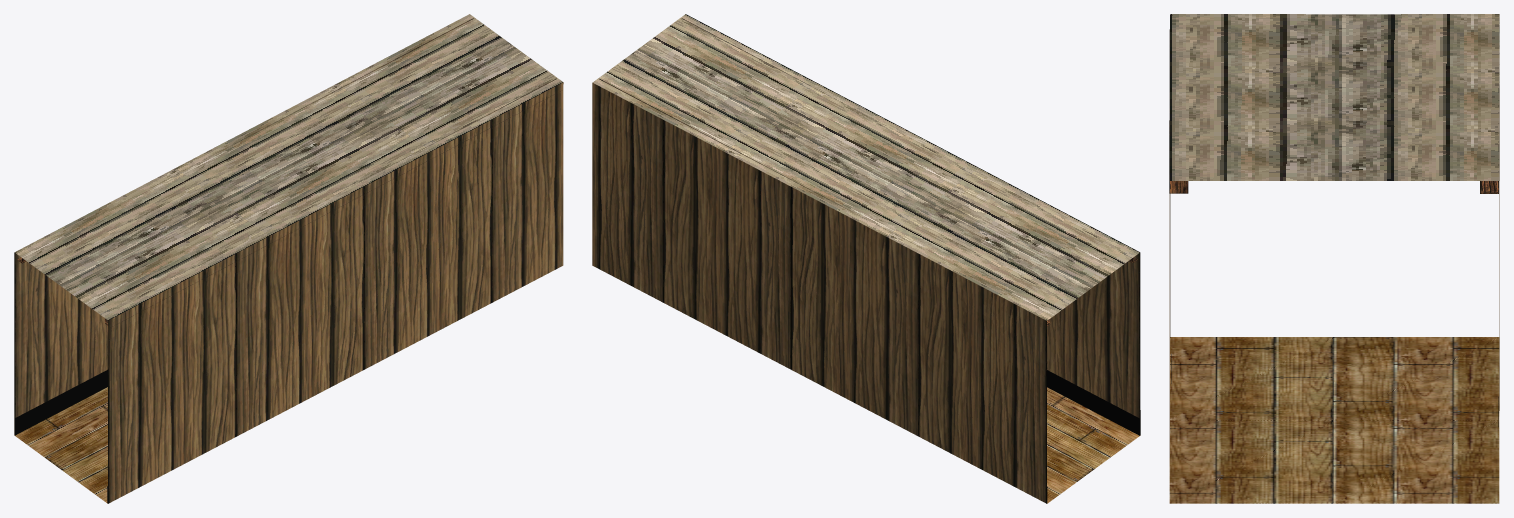
The model's file is LAKETOWN_WAREHOUSE2_PS_WH2_HALLWAY994847__GX.fbx.
The picture shows the model from 3 angles, left to right: view 1: azimuth 30°, elevation 25°; view 2: azimuth 150°, elevation 25°; view 3: azimuth 270°, elevation 25°; orthographic projection. The views are drawn at different scales.
Visible parts, largest first — view 1: LAKETOWN_WAREHOUSE2_PS_WH2_HALLWAY994847__GX; view 2: LAKETOWN_WAREHOUSE2_PS_WH2_HALLWAY994847__GX; view 3: LAKETOWN_WAREHOUSE2_PS_WH2_HALLWAY994847__GX.
Part boxes in pixels (x1,y1,x2,y2): LAKETOWN_WAREHOUSE2_PS_WH2_HALLWAY994847__GX: (14, 14, 563, 503); LAKETOWN_WAREHOUSE2_PS_WH2_HALLWAY994847__GX: (592, 14, 1140, 503); LAKETOWN_WAREHOUSE2_PS_WH2_HALLWAY994847__GX: (1169, 14, 1499, 503).
Size of the model in its own units: 84345 by 55029 by 30080.
Materials: 5 (5 with a texture image).
